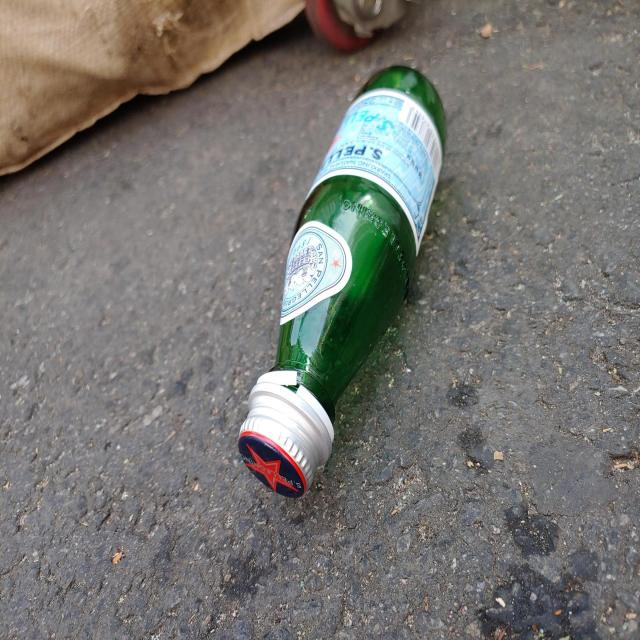glass: (238, 65, 447, 498)
